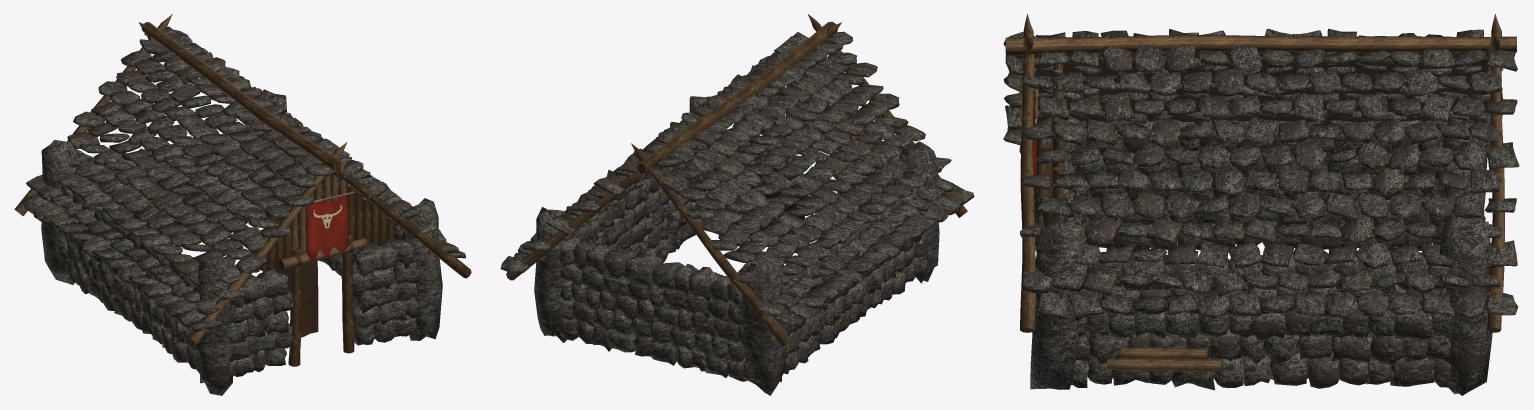
Rendered from SM_Bld_Stone_House.gltf.
The picture shows the model from 3 angles, left to right: view 1: azimuth 30°, elevation 25°; view 2: azimuth 150°, elevation 25°; view 3: azimuth 270°, elevation 25°; orthographic projection. The views are drawn at different scales.
Visible parts, largest first — view 1: SM_Bld_Stone_House; view 2: SM_Bld_Stone_House; view 3: SM_Bld_Stone_House.
Boxes of the visible parts, bbox=[...] form: SM_Bld_Stone_House: bbox=[14, 14, 471, 395]; SM_Bld_Stone_House: bbox=[500, 14, 974, 395]; SM_Bld_Stone_House: bbox=[1003, 14, 1519, 395].
Size of the model in its own units: 7.18 by 5.54 by 8.39.
Materials: 8 (7 with a texture image).
